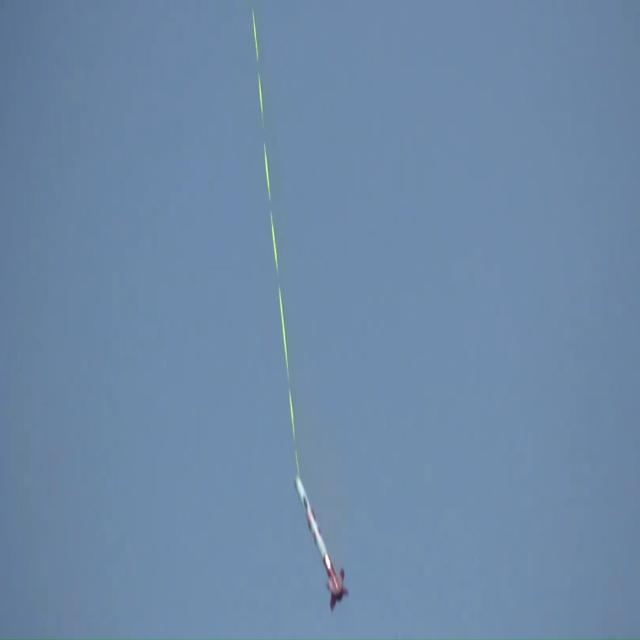Rocket: (296, 476, 350, 611)
